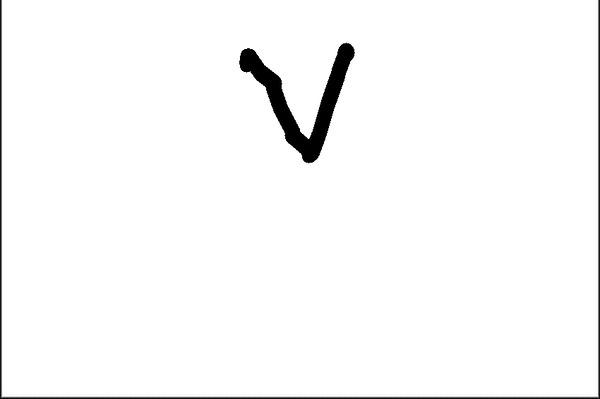V: (224, 28, 366, 168)
